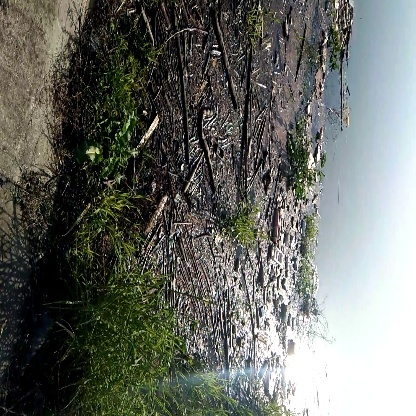branch: (236, 54, 266, 196)
